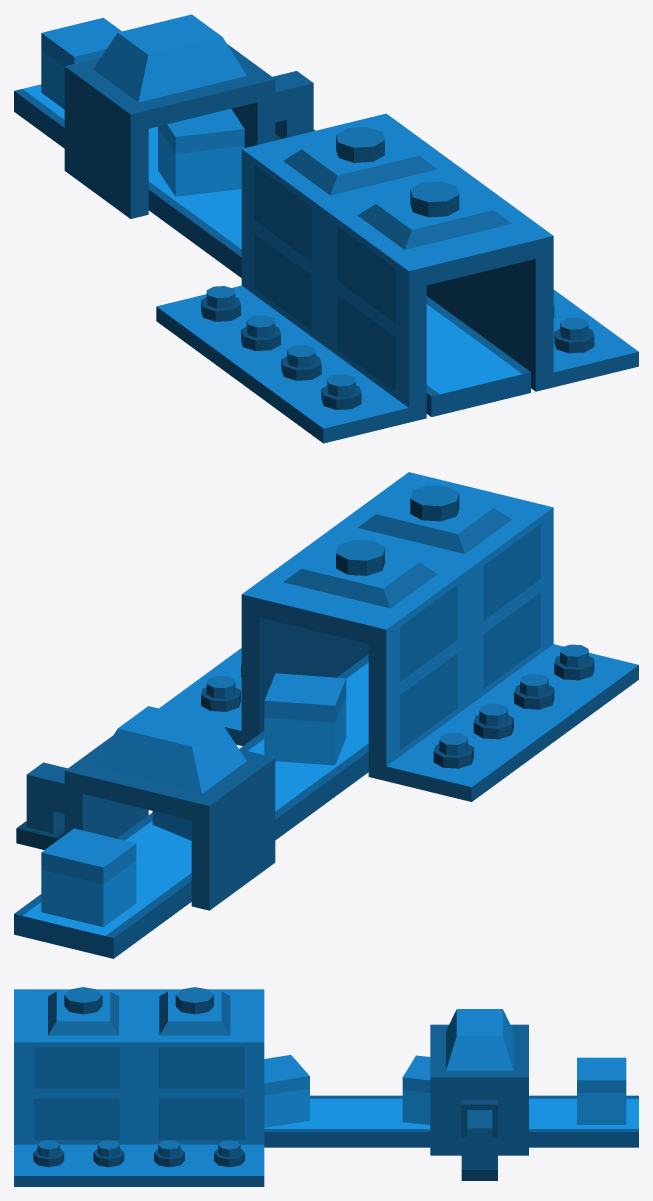
The model's file is factoryBG.fbx.
3 renders of one model, top to bottom at view 1: azimuth 30°, elevation 25°; view 2: azimuth 150°, elevation 25°; view 3: azimuth 270°, elevation 25°, orthographic. The views are drawn at different scales.
Parts seen in each view (by area): view 1: factoryBG; view 2: factoryBG; view 3: factoryBG.
Part boxes in pixels (x1=…): factoryBG: x1=14, y1=14, x2=638, y2=443; factoryBG: x1=14, y1=472, x2=638, y2=958; factoryBG: x1=14, y1=987, x2=638, y2=1186.
Bounding box in the file's own units: 436 × 237 × 999.
